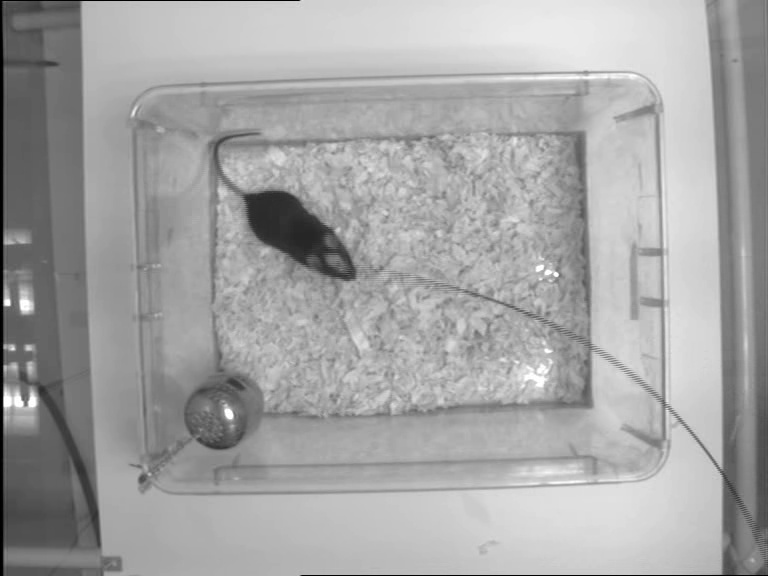mice: (209, 132, 359, 286)
